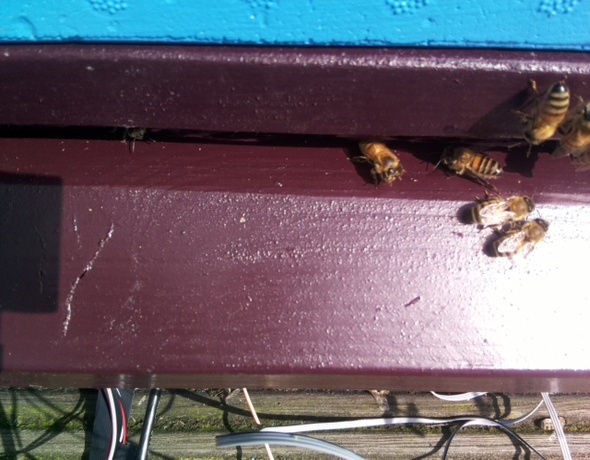no_pollen: (517, 80, 572, 150), (435, 138, 506, 189), (480, 217, 550, 260), (466, 190, 536, 230), (354, 134, 405, 186), (557, 92, 590, 160)
